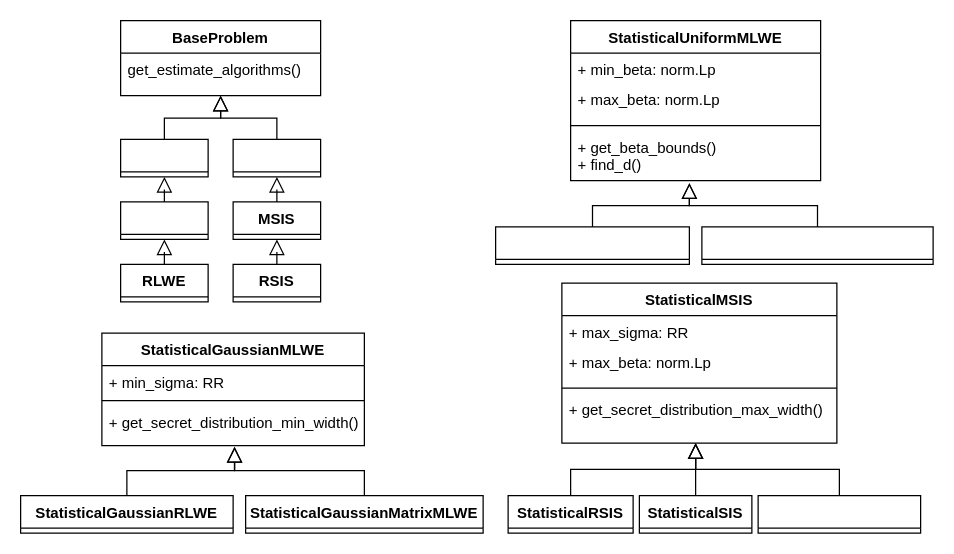
This 954x554 diagram has some shape labels left out. Here are the shapes that lost their labels. From the top down, the centre of each, then its label:
the point at 163,157: LWE
the point at 276,157: SIS
the point at 163,220: MLWE
the point at 591,245: StatisticalUniformRLWE
the point at 817,245: StatisticalUniformMatrixMLWE
the point at 839,513: StatisticalMatrixMSIS
